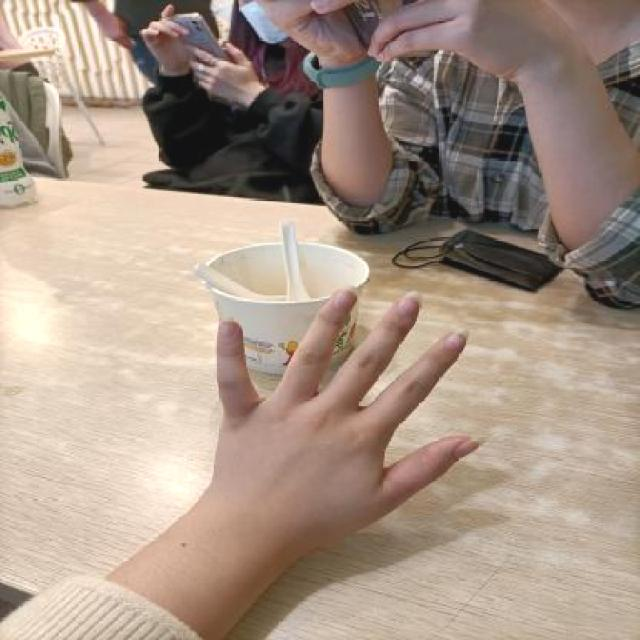no_glove: (184, 274, 499, 563)
